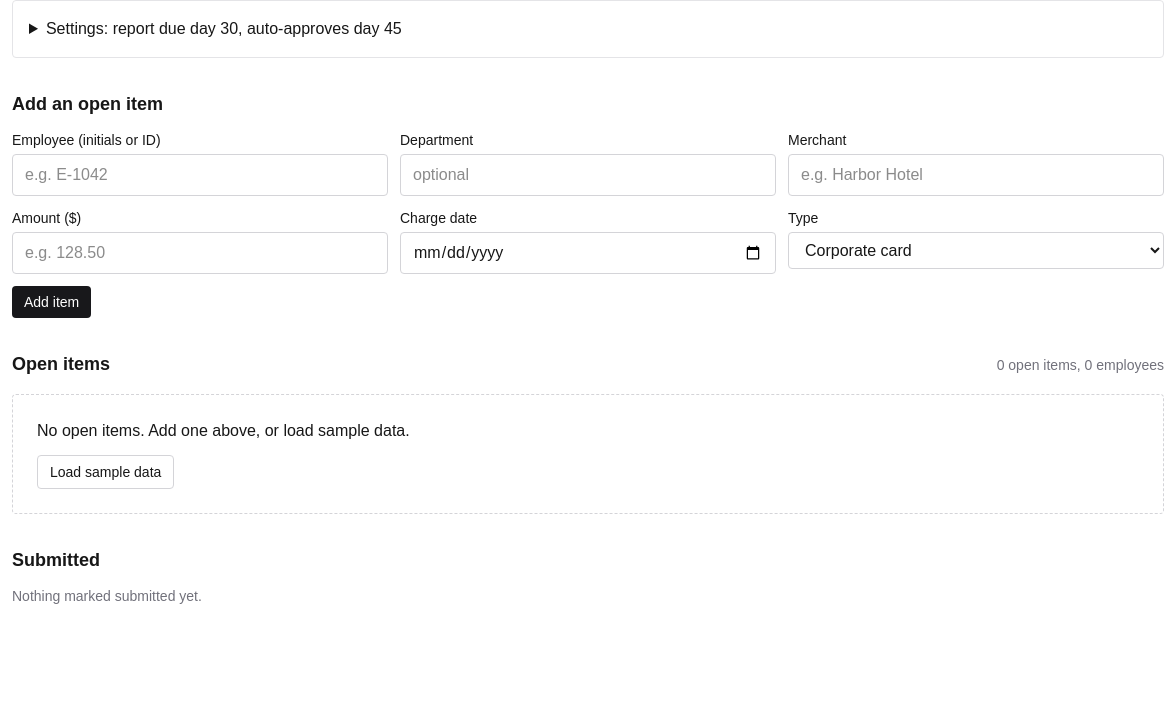
Test case: Tracker › marks an item submitted and undoes it (S3 criteria 4–5)
expect the heading "Add an open item" is shown: met, box [12,94,163,114]
Type "E-7" into the field labelled "Employee (initials or ID)" at {"x": 200, "y": 175}, box [12,154,388,196]
Type "Harbor Hotel" into the field labelled "Merchant" at {"x": 976, "y": 175}, box [788,154,1164,196]
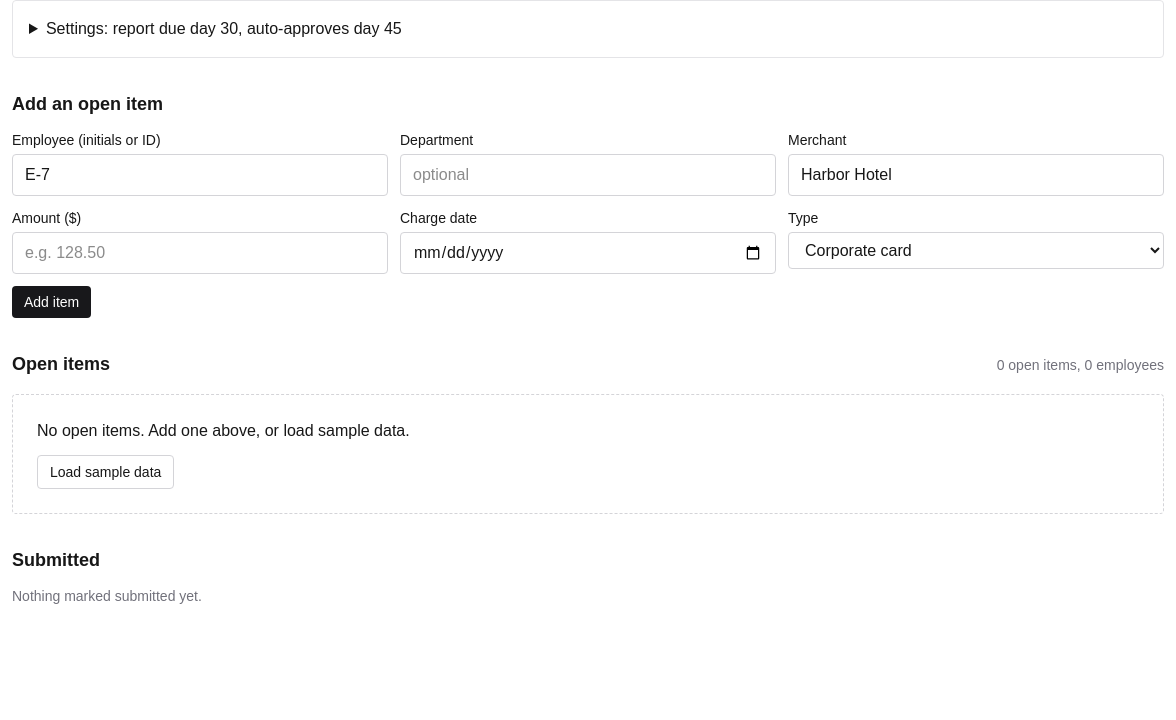
Type "412.80" into the field labelled "Amount ($)" at {"x": 200, "y": 253}, box [12,232,388,274]
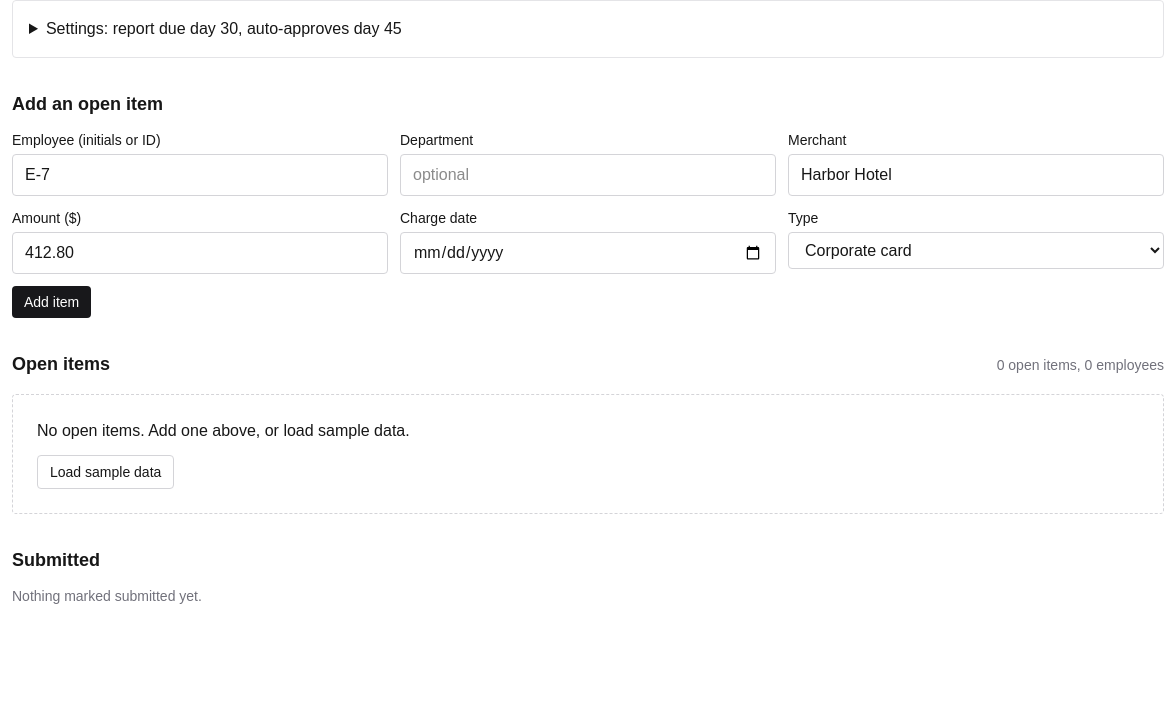
Type "2026-10-09" into the date field labelled "Charge date" at {"x": 588, "y": 253}, box [400,232,776,274]
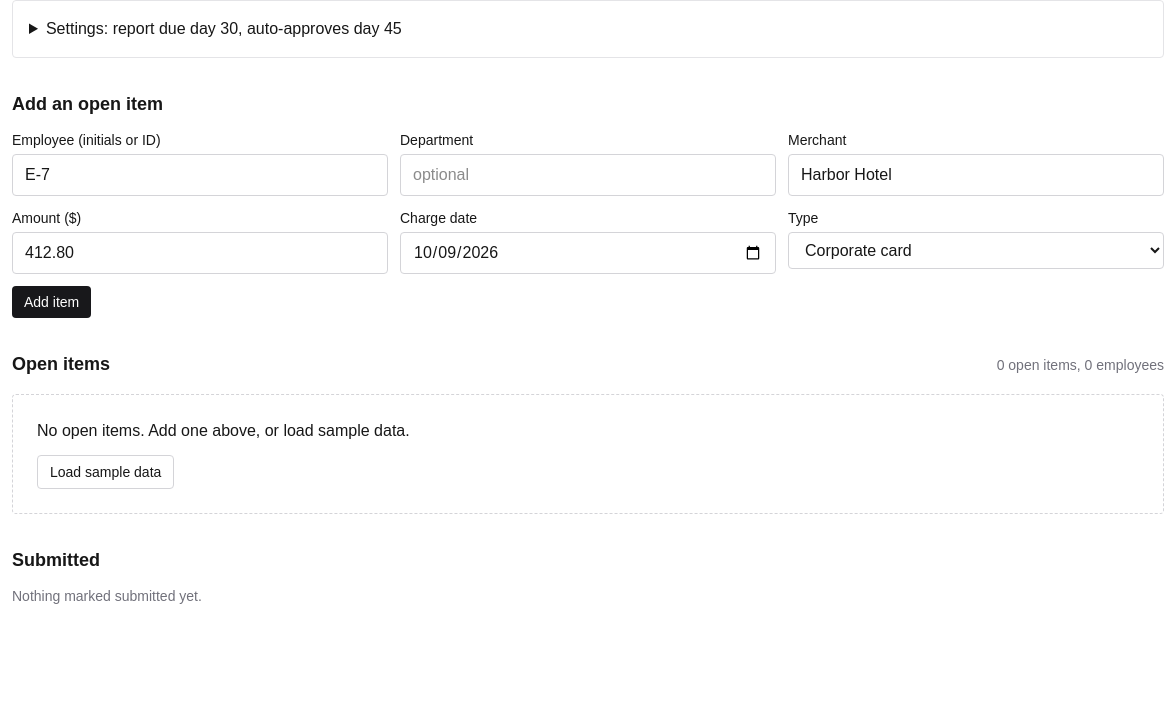
Click the button "Add item" at {"x": 52, "y": 302}, box [12,286,91,318]
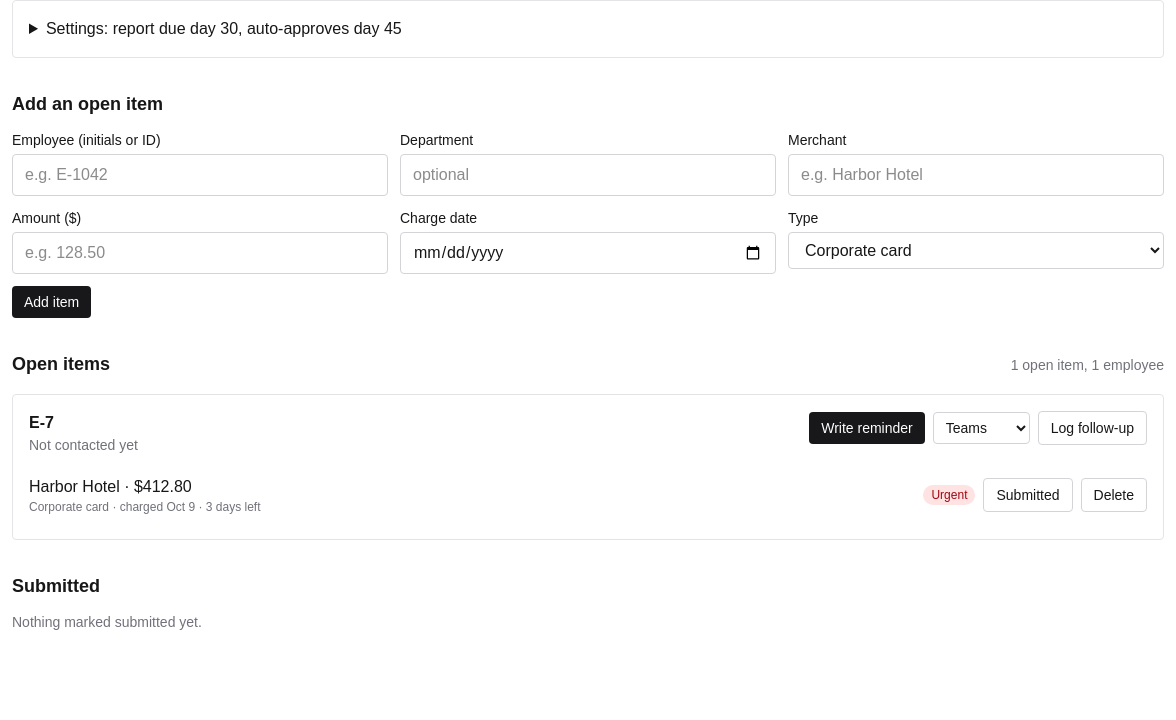
expect the text "Harbor Hotel · $412.80" is shown: met, box [29,478,192,495]
Click the button "Submitted" at {"x": 1028, "y": 495}, box [984,478,1072,512]
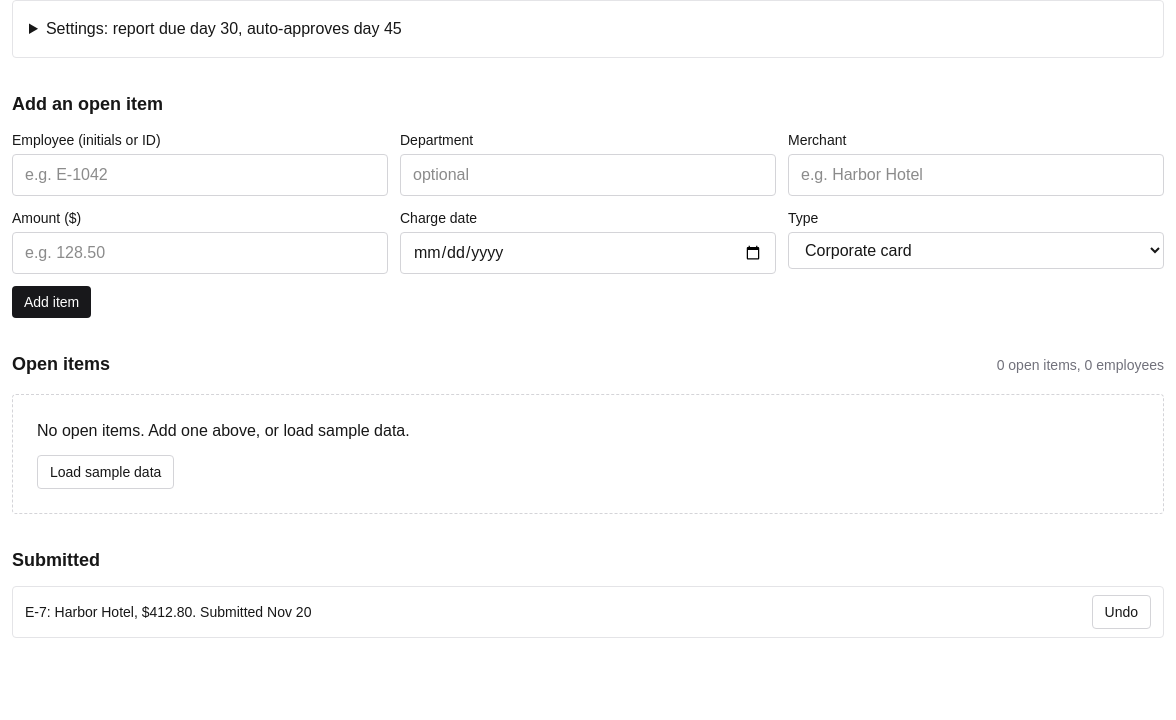
expect the text "E-7: Harbor Hotel, $412.80. Submitted Nov 20" is shown: met, box [25,602,311,622]
expect the text "0 open items, 0 employees" is shown: met, box [997,355,1164,375]
Click the button "Undo" at {"x": 1121, "y": 612}, box [1092,595,1151,629]
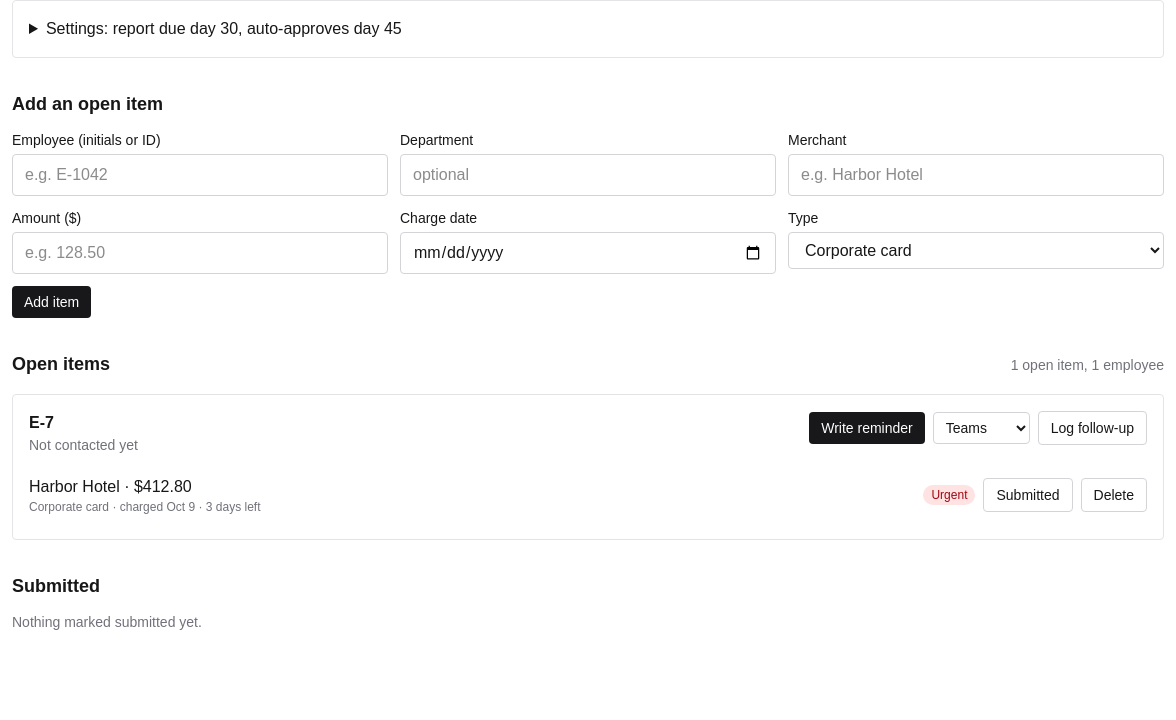
expect the text "1 open item, 1 employee" is shown: met, box [1011,355,1164,375]
